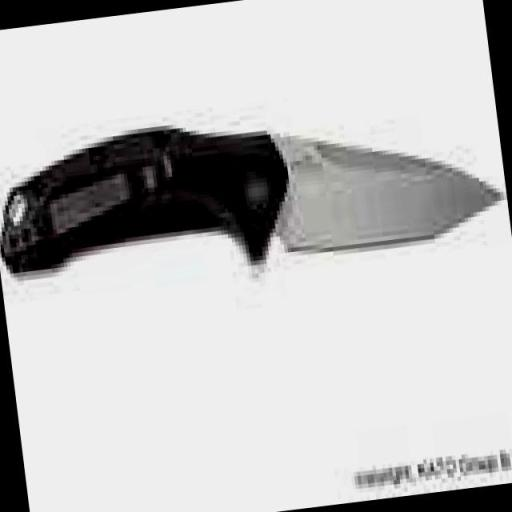knife: (0, 82, 511, 296)
